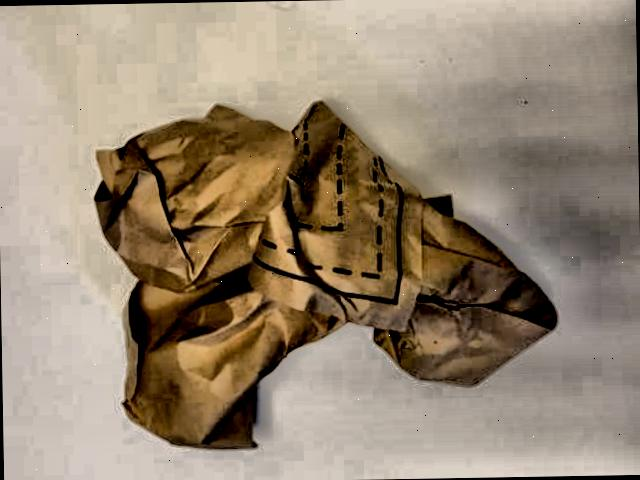Paper: (70, 81, 565, 472)
